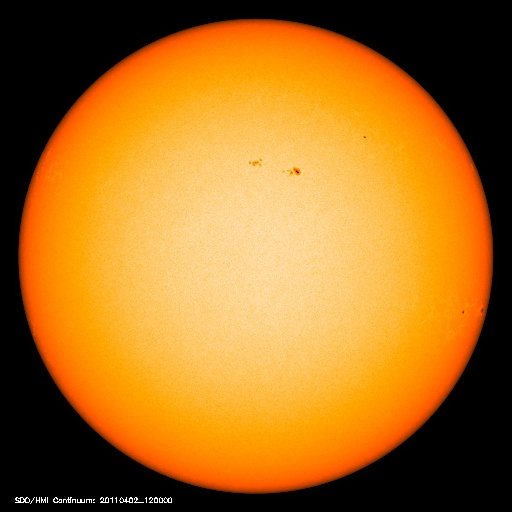sunspot: (239, 152, 311, 180), (451, 298, 497, 323), (349, 124, 381, 150)
